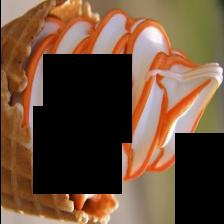orange: (22, 11, 171, 209), (122, 75, 208, 182), (146, 108, 204, 171), (157, 82, 209, 148), (150, 53, 200, 71)
